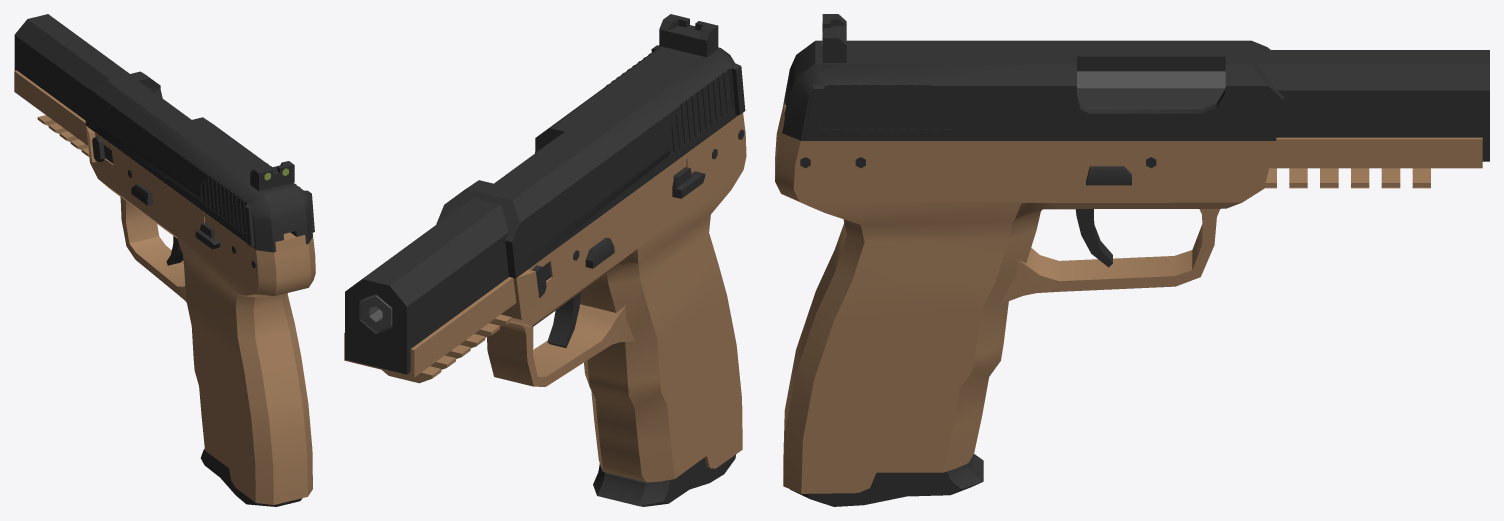
File: gun_fn57.glb
The picture shows the model from 3 angles, left to right: view 1: azimuth 30°, elevation 25°; view 2: azimuth 150°, elevation 25°; view 3: azimuth 270°, elevation 25°; orthographic projection. The views are drawn at different scales.
Parts seen in each view (by area): view 1: body; view 2: body; view 3: body.
Boxes of the visible parts, x1,y1,x2,y2 form: body: (14, 14, 315, 506); body: (344, 14, 746, 506); body: (775, 14, 1489, 506).
Bounding box in the file's own units: 0.1586 × 0.7147 × 1.
